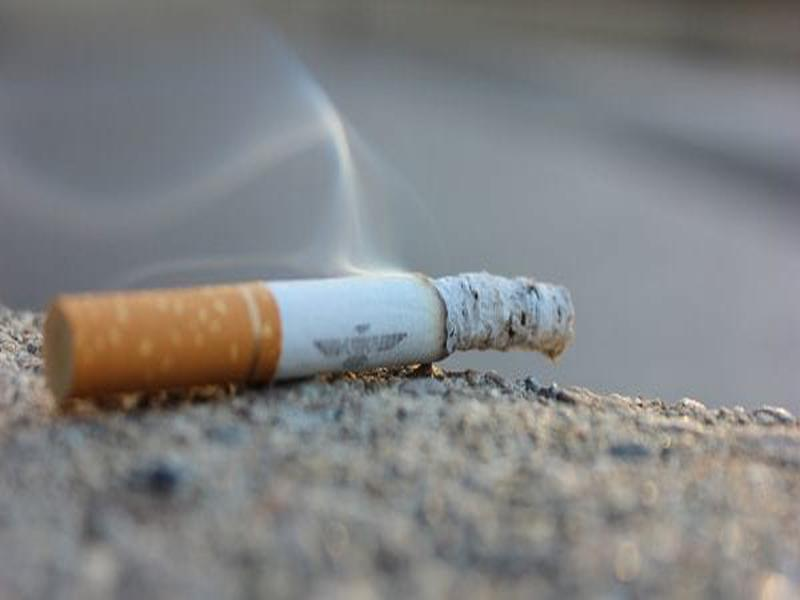burned_cigarette: (40, 261, 572, 404)
